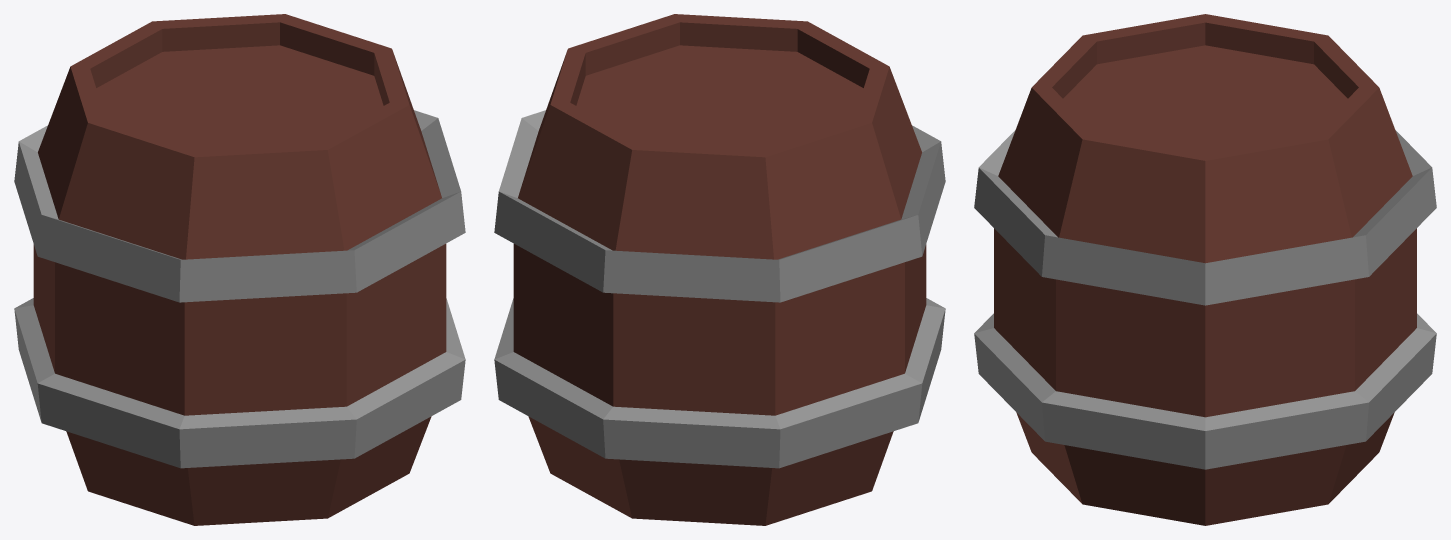
File: StiltBarrel.fbx
3 views of the same model, side by side, from view 1: azimuth 30°, elevation 25°; view 2: azimuth 150°, elevation 25°; view 3: azimuth 270°, elevation 25° (orthographic).
Parts seen in each view (by area): view 1: BARREL; view 2: BARREL; view 3: BARREL.
Boxes of the visible parts, x1,y1,x2,y2 form: BARREL: (14, 14, 465, 525); BARREL: (494, 14, 945, 525); BARREL: (974, 14, 1436, 525).
Size of the model in its own units: 41.35 by 35.99 by 41.35.
